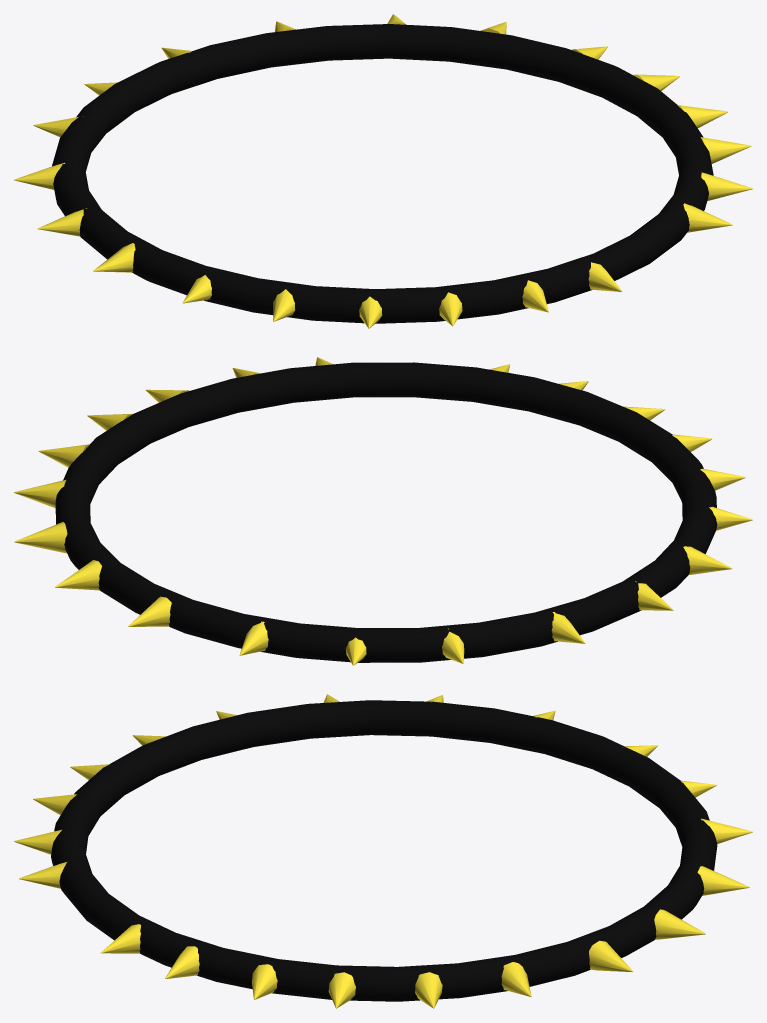
The picture shows the model from 3 angles, top to bottom: view 1: azimuth 30°, elevation 25°; view 2: azimuth 150°, elevation 25°; view 3: azimuth 270°, elevation 25°; orthographic projection.
Visible parts, largest first — view 1: 304, neck_spike; view 2: 304, neck_spike; view 3: 304, neck_spike.
Boxes of the visible parts, x1,y1,x2,y2 form: 304: [52, 24, 713, 323]; neck_spike: [14, 14, 752, 328]; 304: [55, 362, 717, 662]; neck_spike: [14, 357, 752, 665]; 304: [51, 700, 717, 1001]; neck_spike: [14, 694, 752, 1008].
Bounding box in the file's own units: 53.33 × 53.07 × 2.56.
